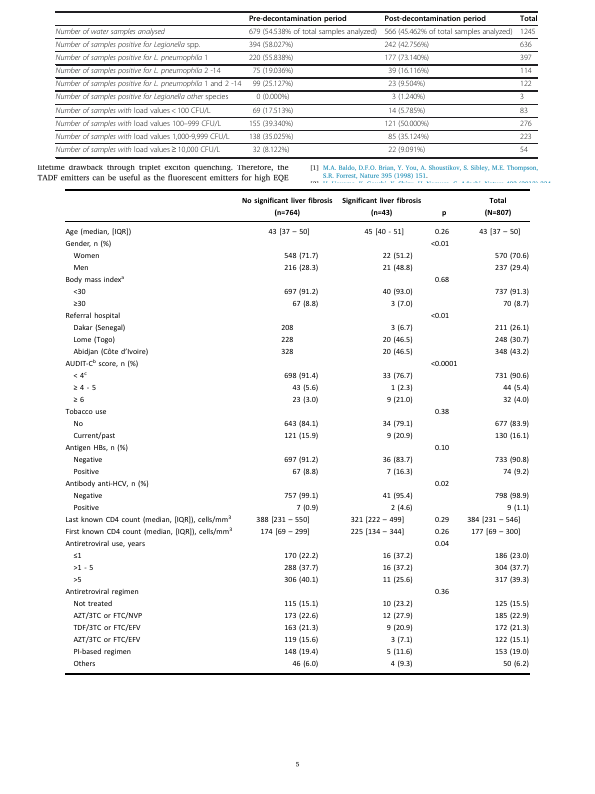borderless: (65, 188, 529, 673), (55, 10, 537, 157)
cell: (241, 196, 333, 217), (65, 526, 233, 537), (65, 514, 232, 525), (55, 132, 231, 142), (341, 196, 422, 217), (55, 80, 242, 89), (55, 119, 222, 129), (55, 66, 221, 76), (55, 145, 221, 155), (55, 93, 229, 102), (55, 53, 209, 63), (55, 40, 201, 50), (55, 106, 211, 115), (248, 27, 378, 37), (383, 27, 513, 37), (55, 27, 166, 37), (383, 14, 487, 23), (248, 14, 347, 23), (65, 358, 139, 369), (65, 480, 150, 489), (65, 540, 146, 549), (72, 635, 141, 645), (73, 348, 149, 357), (65, 588, 140, 597), (65, 274, 125, 285), (72, 612, 143, 621), (72, 624, 142, 633), (65, 228, 132, 237), (484, 196, 512, 217), (65, 444, 129, 453), (72, 648, 132, 657), (65, 312, 121, 321), (255, 516, 311, 525), (350, 516, 405, 525), (466, 516, 521, 525), (350, 528, 405, 537), (73, 324, 126, 333), (383, 40, 430, 50), (383, 53, 430, 63), (383, 119, 430, 129), (259, 528, 311, 537), (248, 40, 294, 50), (248, 53, 294, 63), (248, 119, 294, 129), (248, 132, 294, 142), (470, 528, 521, 537), (387, 66, 430, 76), (387, 132, 430, 142), (65, 240, 112, 249), (252, 66, 294, 76), (72, 599, 113, 609), (387, 145, 426, 155), (268, 228, 311, 237), (478, 228, 521, 237), (73, 336, 116, 345), (65, 408, 108, 417), (73, 432, 116, 441), (252, 145, 290, 155), (252, 80, 294, 89), (252, 106, 294, 115), (364, 228, 405, 237), (283, 491, 319, 501), (494, 491, 530, 501), (283, 599, 319, 609), (494, 599, 530, 609), (283, 635, 319, 645), (494, 635, 530, 645), (387, 80, 426, 89), (387, 106, 426, 115), (283, 252, 319, 261), (494, 252, 530, 261), (283, 264, 319, 273), (494, 264, 530, 273), (283, 288, 319, 297), (494, 288, 530, 297), (494, 324, 530, 333), (494, 336, 530, 345), (494, 348, 530, 357), (283, 372, 319, 381), (494, 372, 530, 381), (283, 420, 319, 429), (494, 420, 530, 429), (283, 432, 319, 441), (494, 432, 530, 441), (283, 456, 319, 465), (494, 456, 530, 465), (283, 552, 319, 561), (494, 552, 530, 561), (283, 564, 319, 573), (494, 564, 530, 573), (283, 576, 319, 585), (494, 576, 530, 585), (283, 612, 319, 621), (494, 612, 530, 621), (283, 624, 319, 633), (494, 624, 530, 633), (283, 648, 319, 657), (494, 648, 530, 657), (382, 491, 414, 501), (382, 599, 414, 609), (255, 93, 290, 102), (391, 93, 426, 102), (72, 491, 103, 501), (382, 252, 414, 261), (382, 264, 414, 273), (382, 288, 414, 297), (382, 336, 414, 345), (382, 348, 414, 357), (382, 372, 414, 381), (382, 420, 414, 429), (382, 456, 414, 465), (382, 552, 414, 561), (382, 564, 414, 573), (382, 576, 414, 585), (382, 612, 414, 621), (72, 456, 103, 465), (291, 300, 319, 309), (502, 300, 530, 309), (430, 360, 458, 369), (291, 384, 319, 393), (502, 384, 530, 393), (291, 396, 319, 405), (386, 396, 414, 405), (502, 396, 530, 405), (386, 432, 414, 441), (72, 468, 100, 477), (291, 468, 319, 477), (386, 468, 414, 477), (502, 468, 530, 477), (72, 504, 100, 513), (386, 624, 414, 633), (386, 648, 414, 657), (291, 660, 319, 669), (502, 660, 530, 669), (73, 252, 100, 261), (390, 635, 414, 645), (72, 384, 97, 393), (72, 660, 97, 669), (390, 300, 414, 309), (390, 324, 414, 333), (390, 384, 414, 393), (390, 504, 414, 513), (506, 504, 530, 513), (390, 660, 414, 669), (296, 504, 319, 513), (73, 564, 94, 573), (430, 240, 450, 249), (430, 312, 450, 321), (72, 370, 88, 381), (519, 14, 538, 23), (519, 27, 536, 37), (73, 264, 90, 273), (434, 228, 450, 237), (434, 276, 450, 285), (434, 408, 450, 417), (434, 444, 450, 453), (434, 480, 450, 489), (434, 516, 450, 525), (434, 528, 450, 537), (434, 540, 450, 549), (434, 588, 450, 597), (519, 40, 533, 50), (519, 53, 533, 63), (519, 66, 533, 76), (519, 119, 533, 129), (519, 132, 533, 142), (73, 288, 87, 297), (73, 300, 87, 309), (280, 324, 294, 333), (280, 336, 294, 345), (280, 348, 294, 357), (519, 80, 533, 89), (73, 396, 85, 405), (519, 145, 529, 155), (73, 420, 84, 429), (72, 576, 83, 585), (73, 552, 83, 561), (519, 106, 529, 115), (441, 208, 447, 217), (519, 93, 525, 102)
